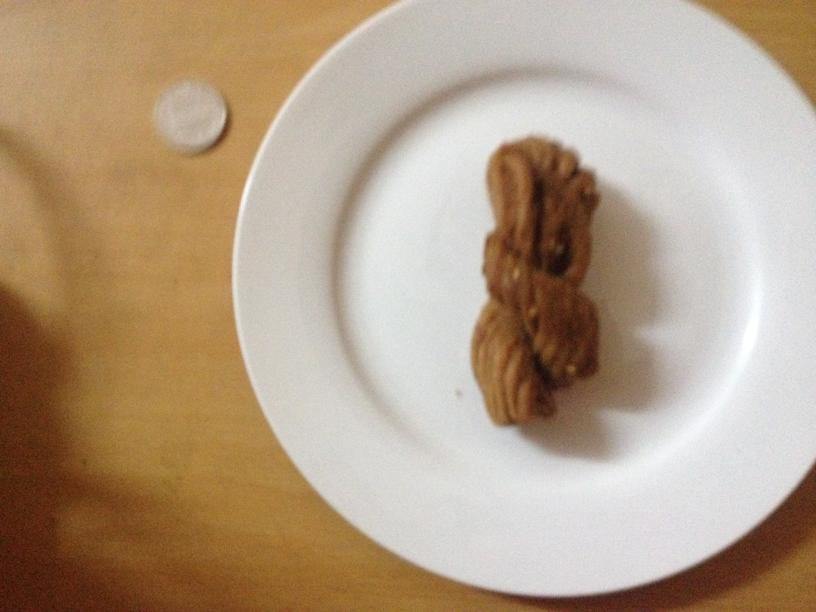coin: (150, 81, 231, 151)
fired_dough_twist: (482, 138, 603, 425)
